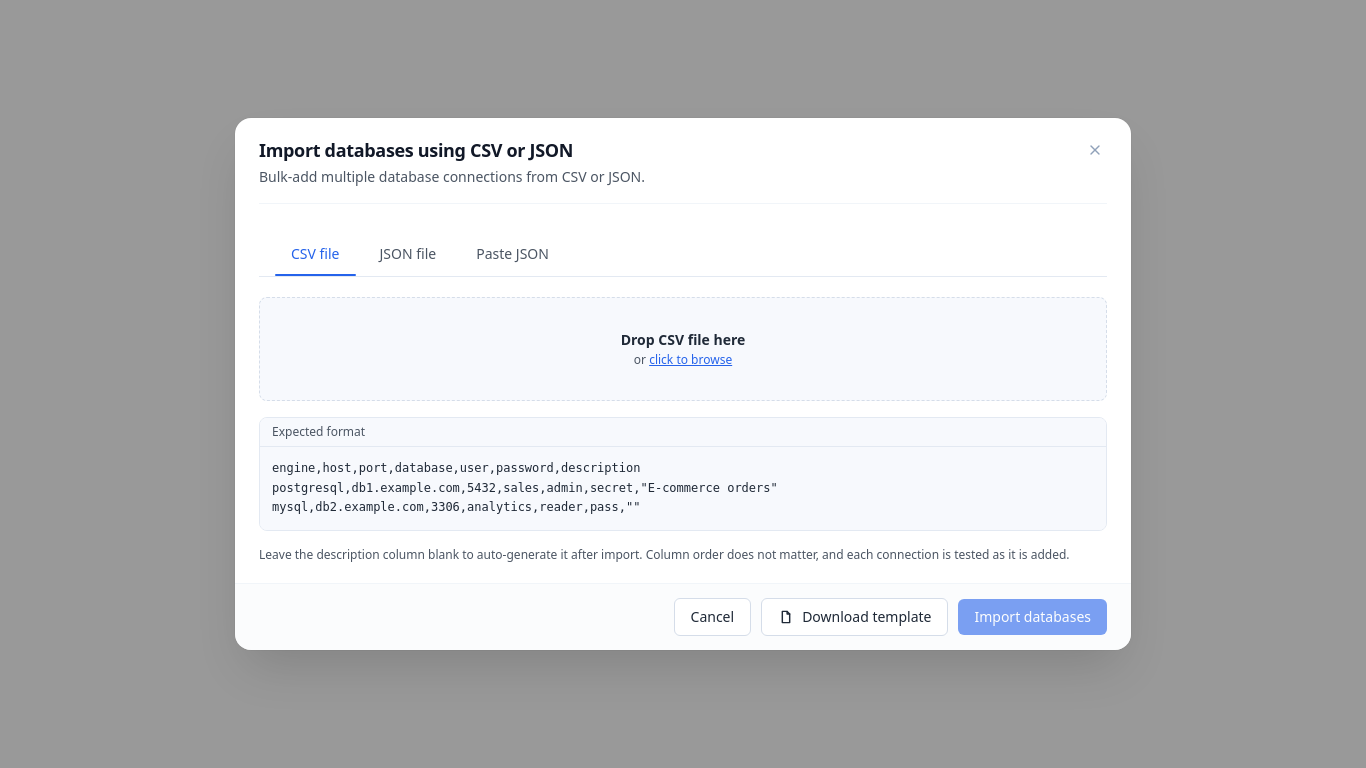
ImportDatabasesModal › keeps Import disabled until rows parse, then reports the count
Check: the button "Import databases" is disabled, box [958, 599, 1107, 635]
Click the tab "Paste JSON".
click(513, 254)  # box [460, 236, 565, 272]
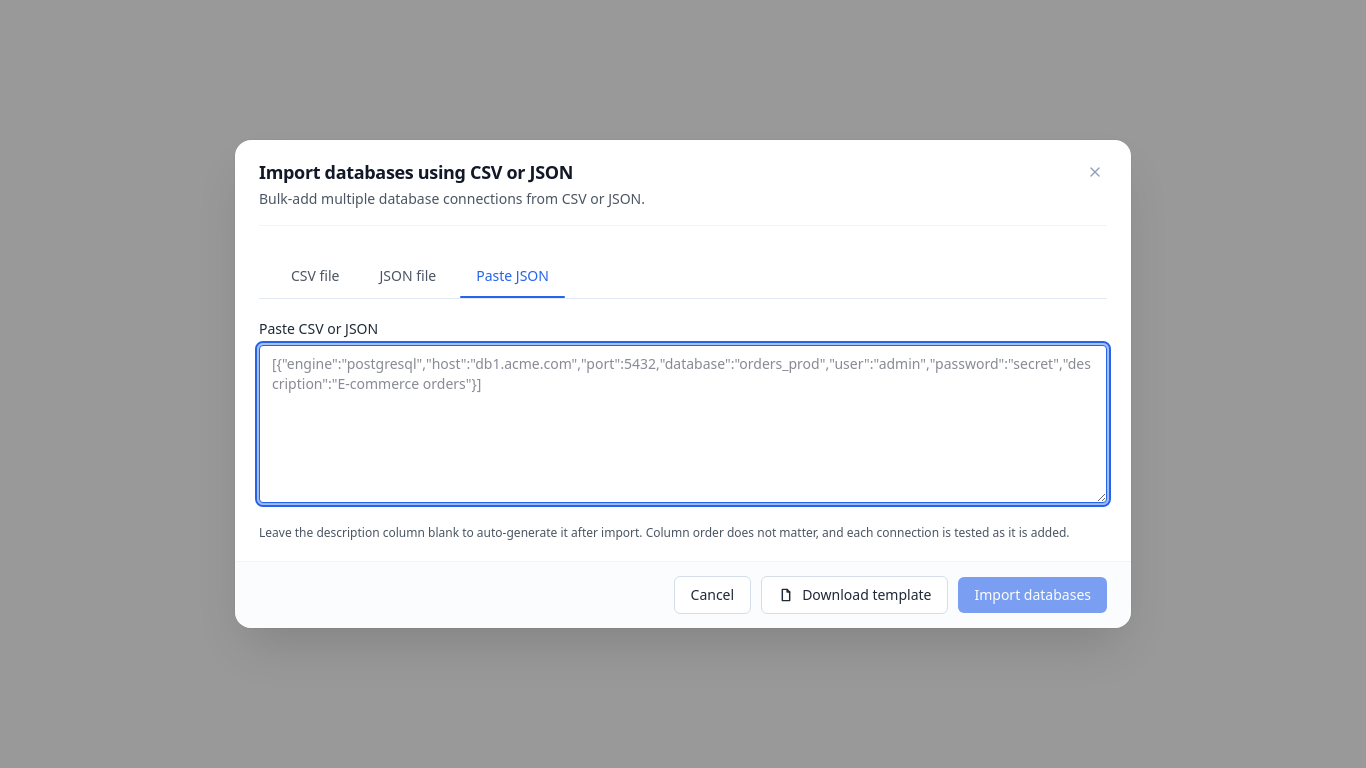
Type keys "[{\"engine\":\"postgresql\",\"host\":\"db1.acme.com\",\"port\":5432,\"database\":\"orders\",\"user\":\"admin\",\"password\":\"secret\"}]"
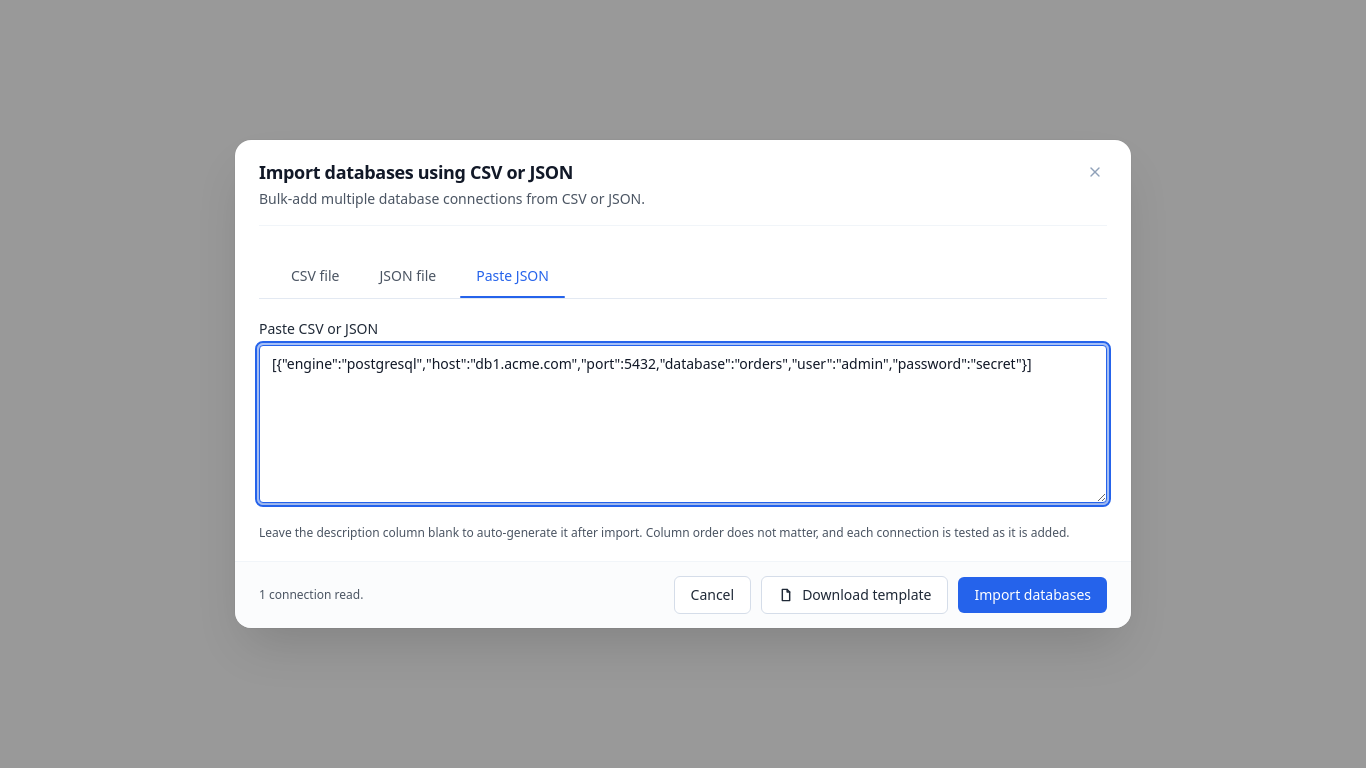
Check: the text "1 connection read." is shown, box [259, 587, 363, 603]
Check: the button "Import databases" is enabled, box [958, 577, 1107, 613]
